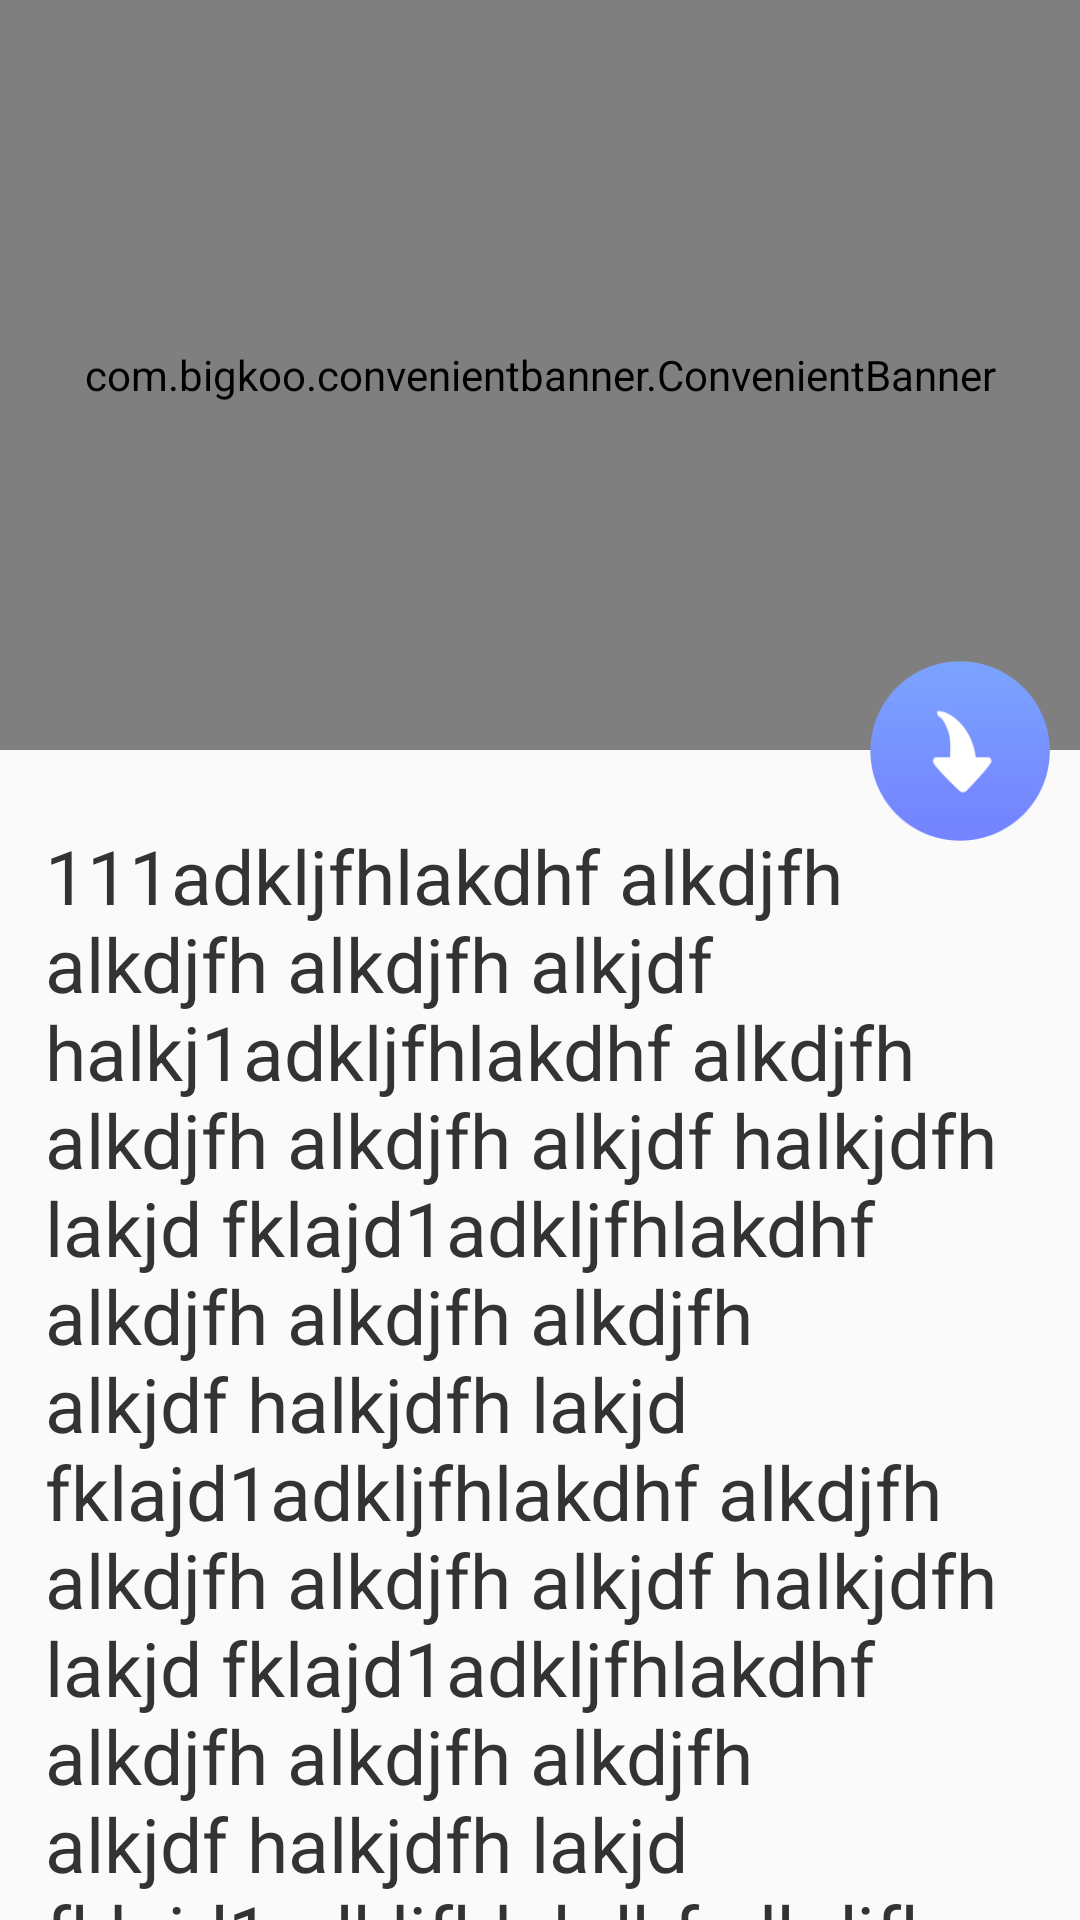

Named icons in this screenshot (1080px×1920px) and their centers, [x,y]:
todayfate down: [960,751]
